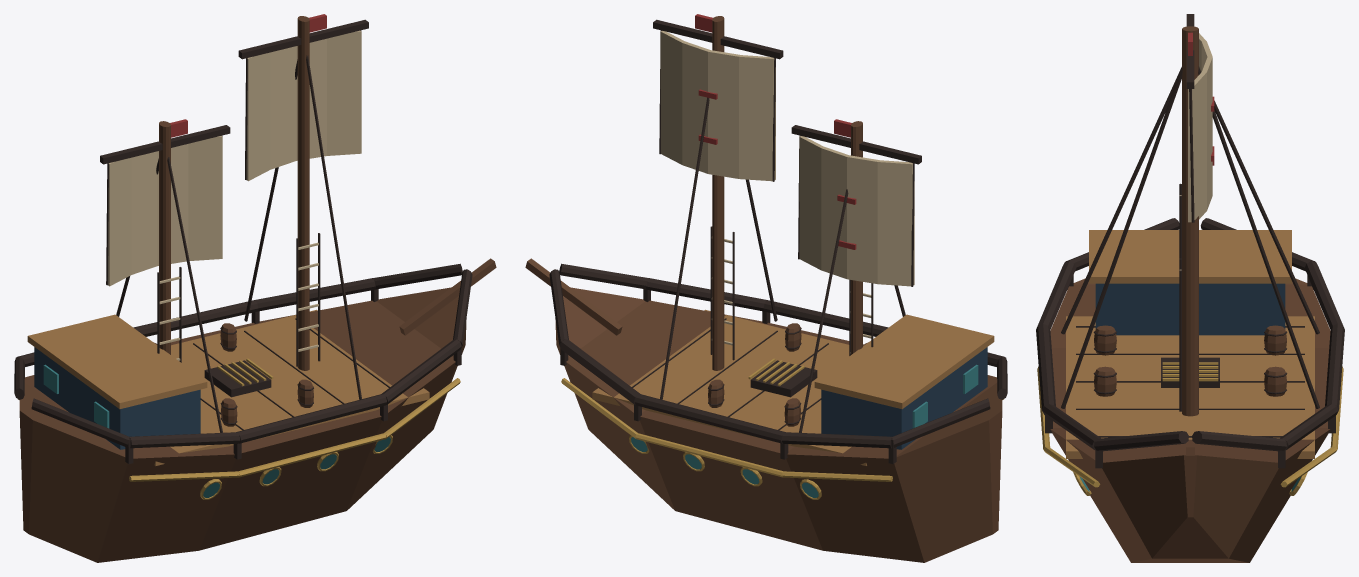
Rendered from PirateCove_ShipBow_Showcase.glb.
3 renders of one model, left to right at view 1: azimuth 30°, elevation 25°; view 2: azimuth 150°, elevation 25°; view 3: azimuth 270°, elevation 25°, orthographic. The views are drawn at different scales.
Parts seen in each view (by area): view 1: PirateCove_ShipBow_Showcase; view 2: PirateCove_ShipBow_Showcase; view 3: PirateCove_ShipBow_Showcase.
Boxes of the visible parts, <box> form: PirateCove_ShipBow_Showcase: <box>14,14,496,562</box>; PirateCove_ShipBow_Showcase: <box>525,14,1007,562</box>; PirateCove_ShipBow_Showcase: <box>1036,14,1344,562</box>.
Bounding box in the file's own units: 3.49 × 3.38 × 1.79.
